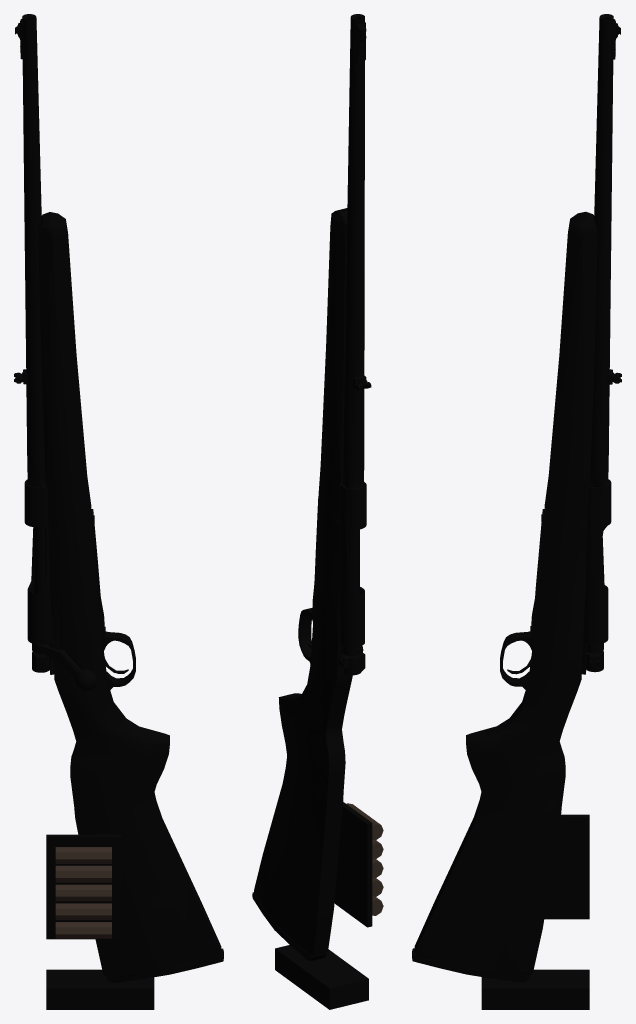
File: Win70__RecoilPad_Rubber__ShellHolder_Butt.fbx
3 views of the same model, side by side, from view 1: azimuth 90°, elevation 25°; view 2: azimuth 210°, elevation 25°; view 3: azimuth 270°, elevation 25° (orthographic).
Visible parts, largest first — view 1: asset_Win70.001; view 2: asset_Win70.001; view 3: asset_Win70.001.
Part boxes in pixels (bbox=[...]): asset_Win70.001: bbox=[14, 14, 223, 1009]; asset_Win70.001: bbox=[252, 14, 383, 1009]; asset_Win70.001: bbox=[412, 14, 621, 1009].
Bounding box in the file's own units: 0.0429 × 0.693 × 0.134.
